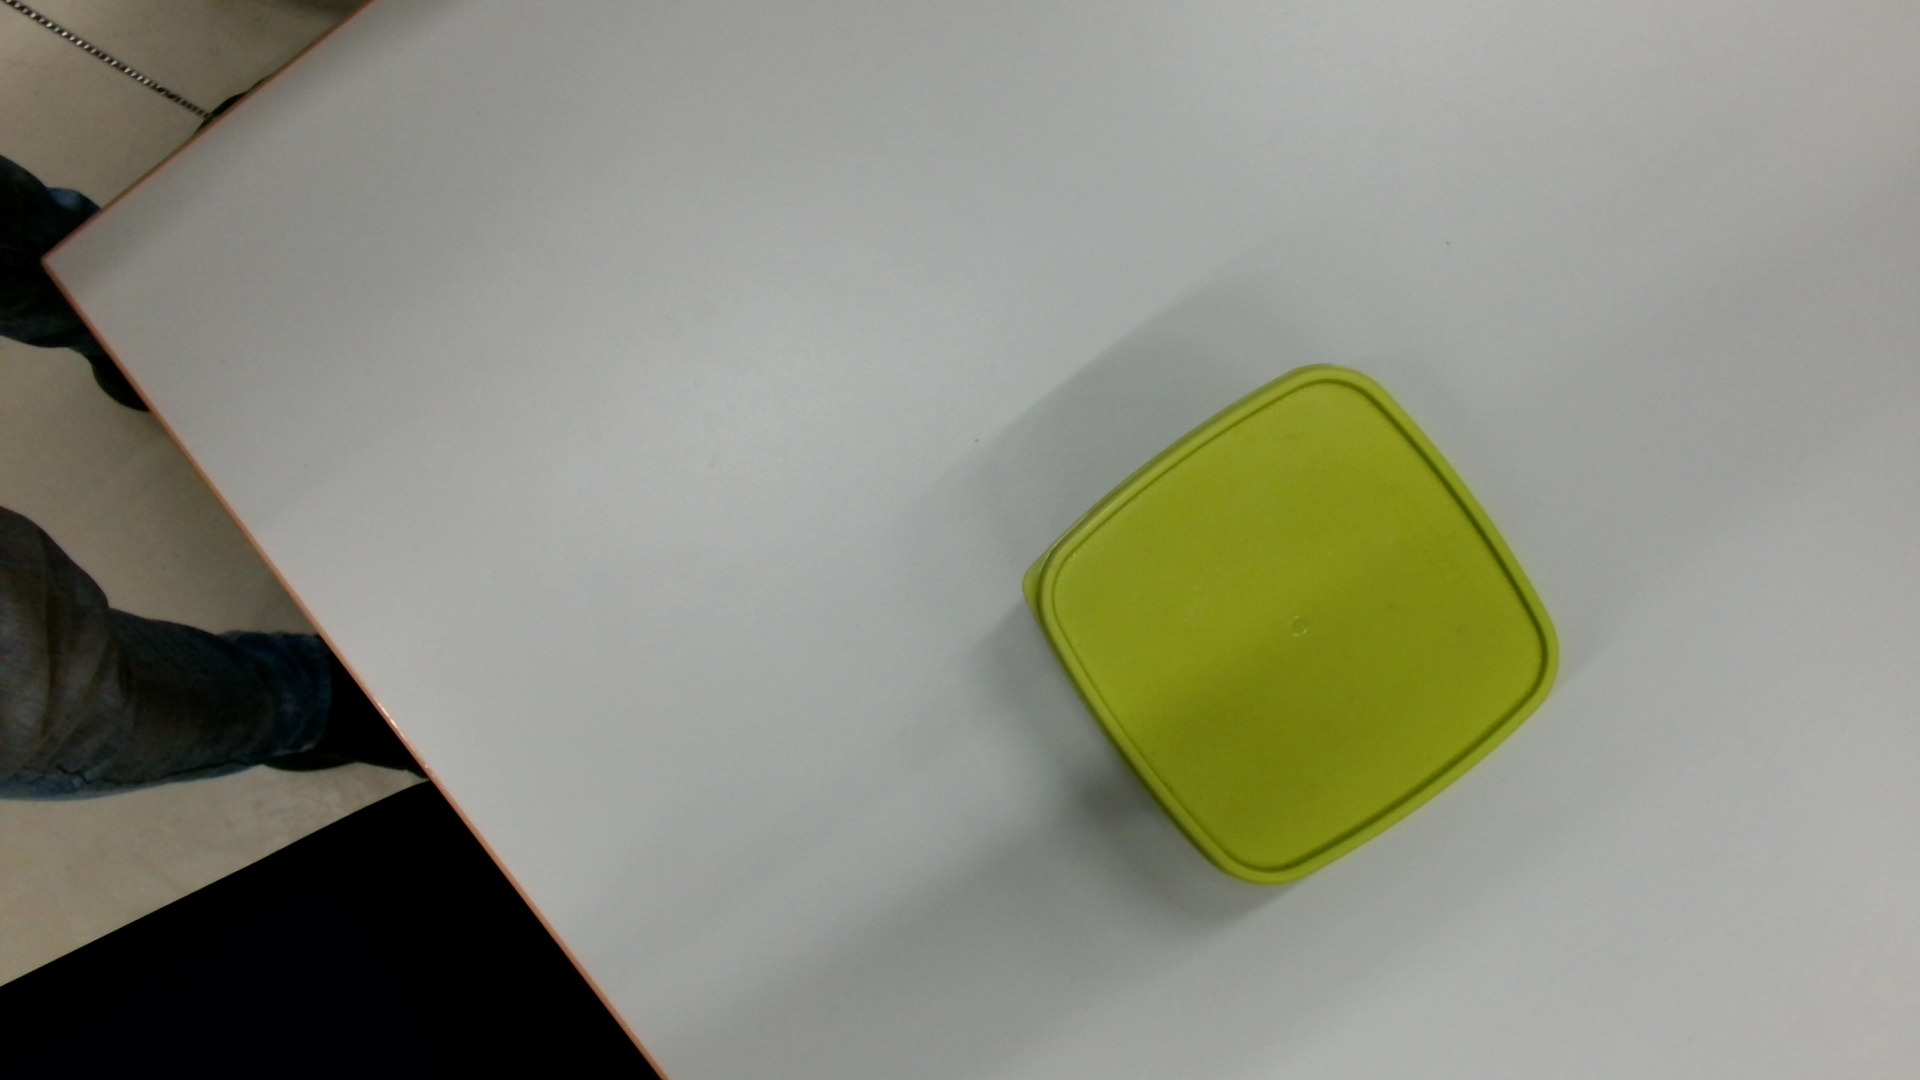Box: (1016, 358, 1572, 891)
